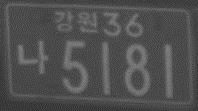1: (155, 44, 183, 98), (95, 41, 117, 95)
3: (102, 11, 121, 36)
5: (61, 39, 89, 93)
6: (125, 13, 144, 36)
8: (124, 42, 150, 96)
강원_O: (54, 10, 98, 34)
나: (16, 39, 49, 72)
